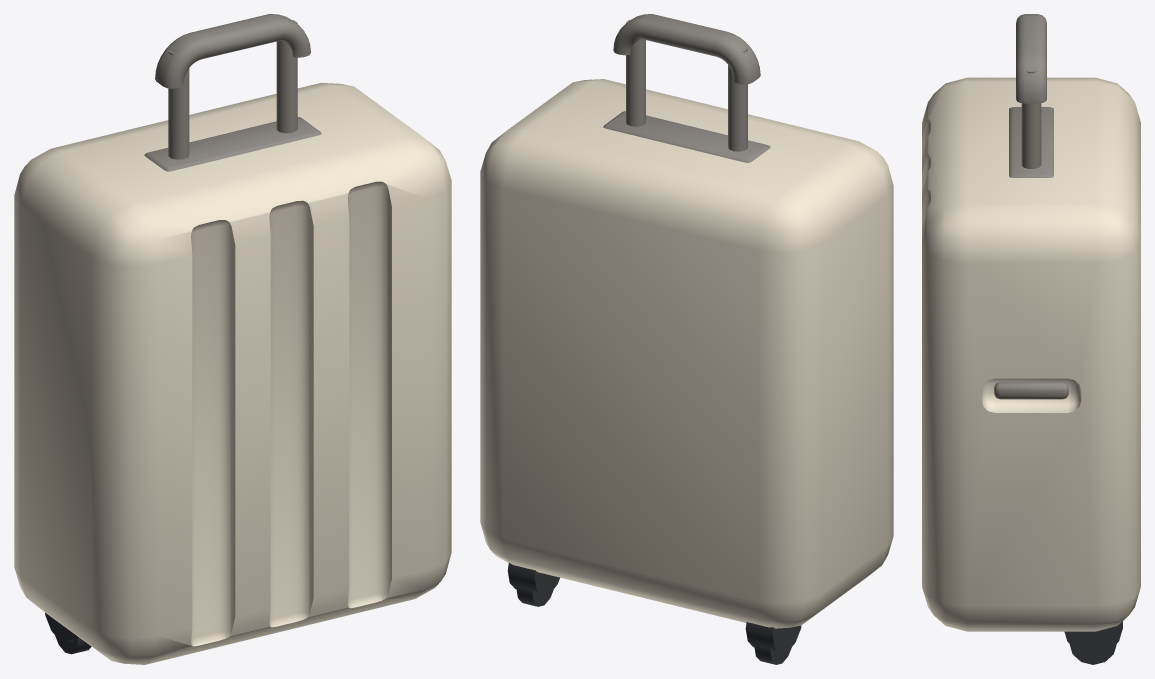
File: bagage_valise_cabine.glb
3 views of the same model, side by side, from view 1: azimuth 30°, elevation 25°; view 2: azimuth 150°, elevation 25°; view 3: azimuth 270°, elevation 25° (orthographic). The views are drawn at different scales.
Visible parts, largest first — view 1: CAB_Coque.001, CAB_Sangles, CAB_Sombre; view 2: CAB_Coque.001, CAB_Sangles, CAB_Sombre; view 3: CAB_Coque.001, CAB_Sangles, CAB_Sombre.
Boxes of the visible parts, bbox=[...] form: CAB_Coque.001: bbox=[14, 82, 451, 664]; CAB_Sangles: bbox=[144, 14, 321, 171]; CAB_Sombre: bbox=[45, 612, 91, 654]; CAB_Coque.001: bbox=[480, 79, 893, 628]; CAB_Sangles: bbox=[603, 14, 770, 162]; CAB_Sombre: bbox=[507, 563, 801, 664]; CAB_Coque.001: bbox=[922, 77, 1140, 631]; CAB_Sangles: bbox=[994, 14, 1068, 399]; CAB_Sombre: bbox=[1064, 621, 1122, 664].
Size of the model in its own units: 0.38 by 0.6324 by 0.22.
